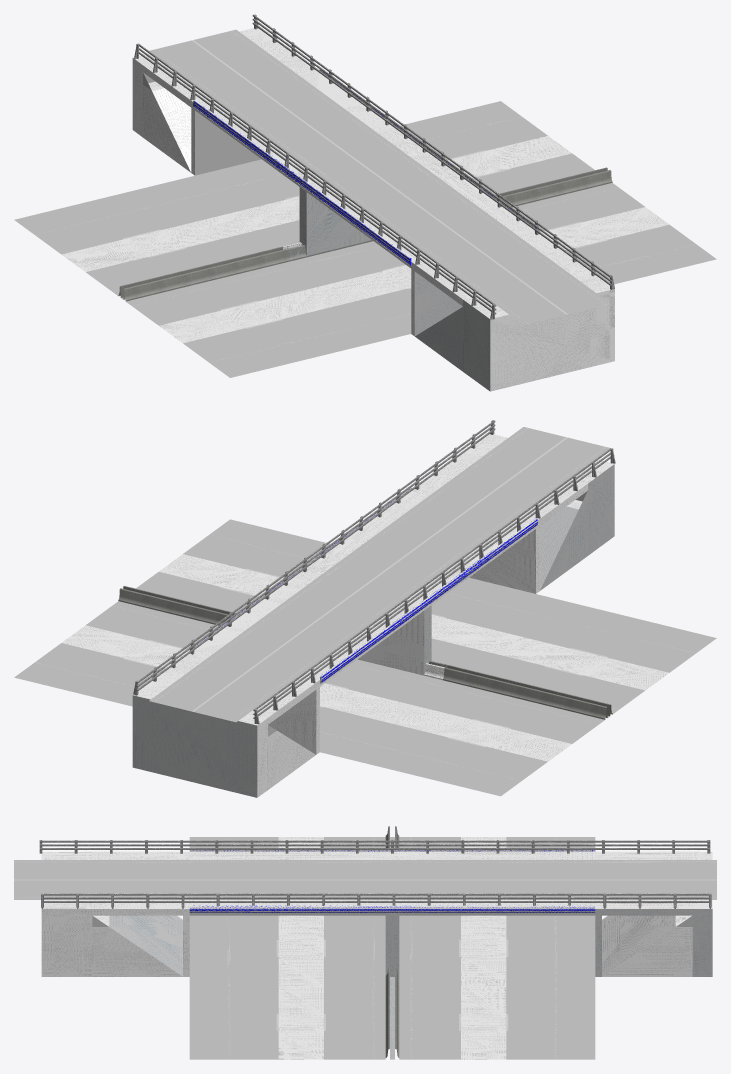
3 renders of one model, top to bottom at view 1: azimuth 30°, elevation 25°; view 2: azimuth 150°, elevation 25°; view 3: azimuth 270°, elevation 25°, orthographic. The views are drawn at different scales.
Visible parts, largest first — view 1: SketchUp (×24); view 2: SketchUp (×24); view 3: SketchUp (×26).
Boxes of the visible parts, box(x1,y1,x2,y2) form: SketchUp (×24): box(14, 28, 716, 391); SketchUp (×24): box(14, 427, 716, 797); SketchUp (×26): box(14, 826, 716, 1059).
Size of the model in its own units: 1535 by 2047 by 259.
